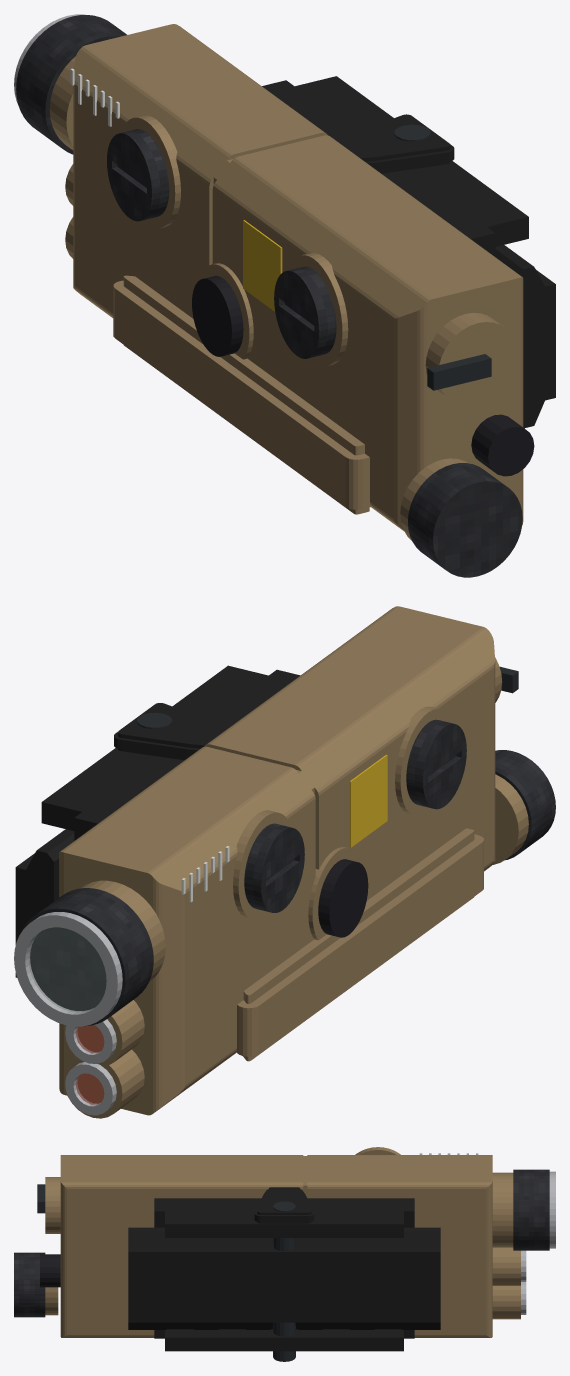
Rendered from modulo_laser_tan.glb.
3 renders of one model, top to bottom at view 1: azimuth 30°, elevation 25°; view 2: azimuth 150°, elevation 25°; view 3: azimuth 270°, elevation 25°, orthographic. The views are drawn at different scales.
Visible parts, largest first — view 1: modulo_laser_tan_chassi_tan, modulo_laser_tan_recartilhado, modulo_laser_tan_aluminio_preto, modulo_laser_tan_borracha, modulo_laser_tan_etiqueta_amarela, modulo_laser_tan_aco_oxidado, modulo_laser_tan_tinta_branca; view 2: modulo_laser_tan_chassi_tan, modulo_laser_tan_recartilhado, modulo_laser_tan_aluminio_preto, modulo_laser_tan_aco_inox, modulo_laser_tan_lente, modulo_laser_tan_borracha, modulo_laser_tan_etiqueta_amarela, modulo_laser_tan_lente_laser, modulo_laser_tan_aco_oxidado, modulo_laser_tan_tinta_branca; view 3: modulo_laser_tan_aluminio_preto, modulo_laser_tan_chassi_tan, modulo_laser_tan_recartilhado, modulo_laser_tan_aco_oxidado, modulo_laser_tan_aco_inox, modulo_laser_tan_borracha.
Part boxes in pixels (x1,y1,x2,y2): modulo_laser_tan_chassi_tan: (49,24,523,540); modulo_laser_tan_recartilhado: (16,15,522,577); modulo_laser_tan_aluminio_preto: (262,76,555,428); modulo_laser_tan_borracha: (192,275,534,476); modulo_laser_tan_etiqueta_amarela: (243,220,282,311); modulo_laser_tan_aco_oxidado: (394,124,491,390); modulo_laser_tan_tinta_branca: (70,68,119,126); modulo_laser_tan_chassi_tan: (59,606,528,1118); modulo_laser_tan_recartilhado: (19,719,555,1026); modulo_laser_tan_aluminio_preto: (15,665,300,977); modulo_laser_tan_aco_inox: (14,912,122,1115); modulo_laser_tan_lente: (28,927,106,1011); modulo_laser_tan_borracha: (318,859,368,937); modulo_laser_tan_etiqueta_amarela: (349,754,387,847); modulo_laser_tan_lente_laser: (75,1025,104,1104); modulo_laser_tan_aco_oxidado: (137,666,518,729); modulo_laser_tan_tinta_branca: (181,846,229,902); modulo_laser_tan_aluminio_preto: (128,1187,440,1351); modulo_laser_tan_chassi_tan: (45,1147,520,1337); modulo_laser_tan_recartilhado: (14,1169,549,1317); modulo_laser_tan_aco_oxidado: (37,1184,295,1361); modulo_laser_tan_aco_inox: (521,1171,555,1314); modulo_laser_tan_borracha: (40,1254,60,1287).
Size of the model in its own units: 0.0317 by 0.0332 by 0.1042.
11 materials, 1 textured.
